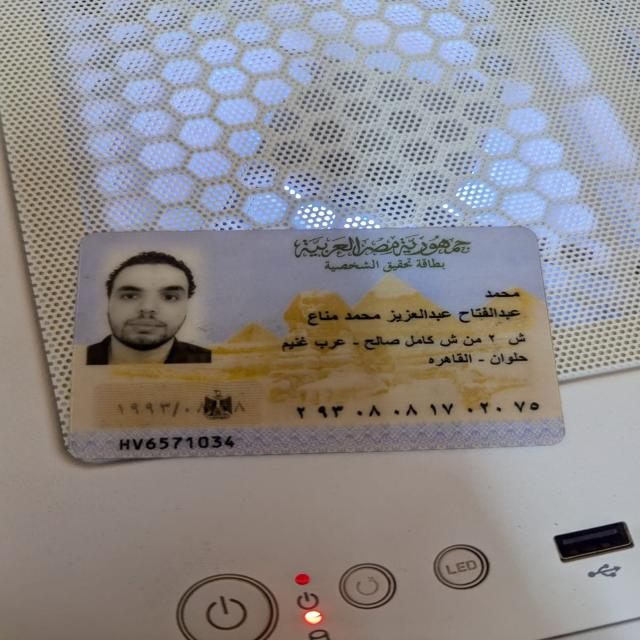id_card: (54, 219, 575, 469)
